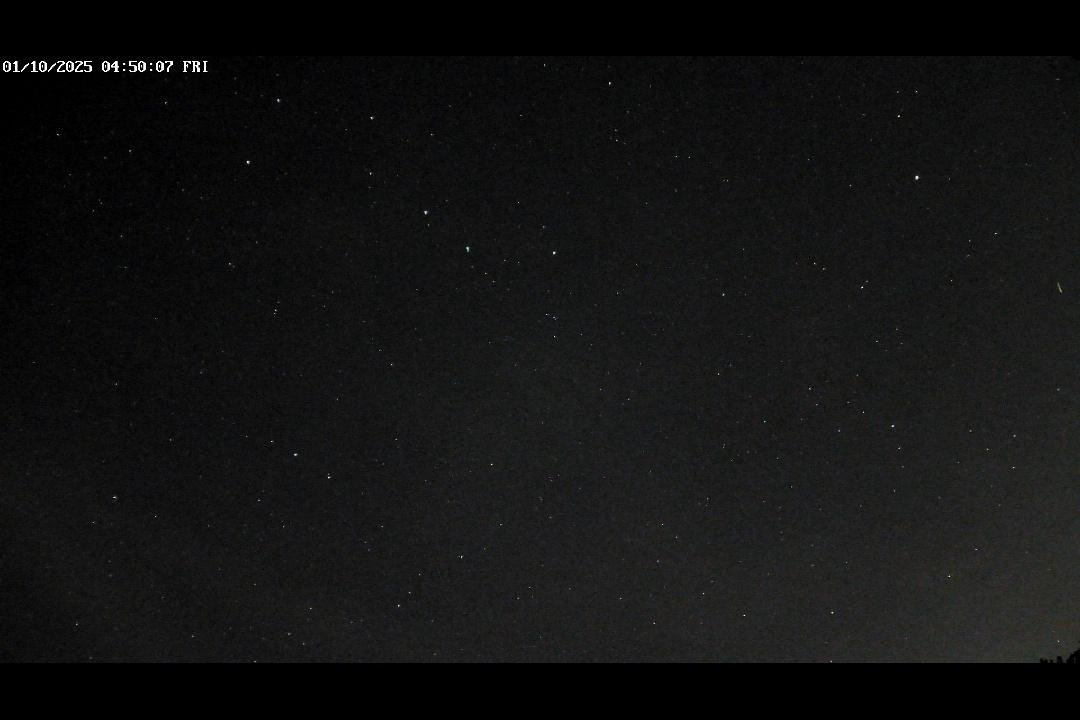meteorite: (1052, 278, 1065, 296)
